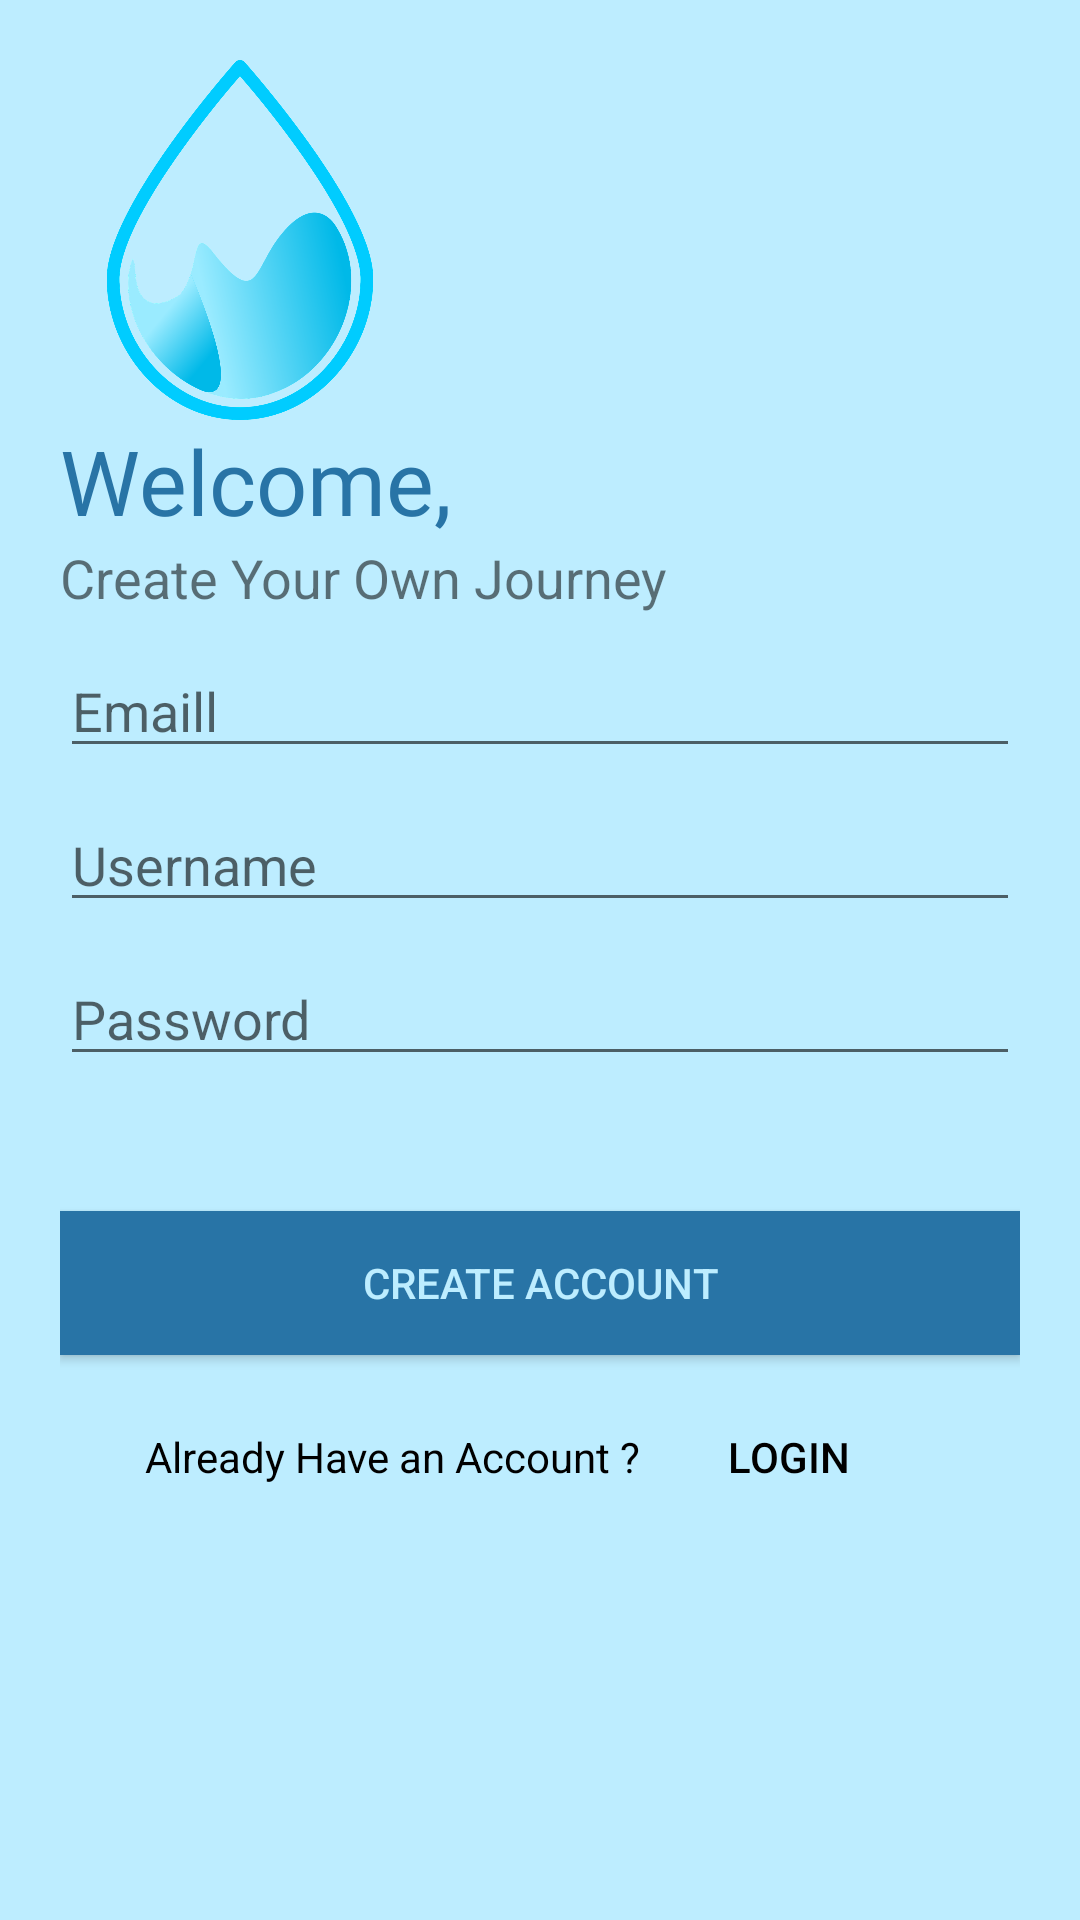

Point at icon controls on the screen. Image size 1080w x 1920h, points as (x,y).
water: (240,240)
